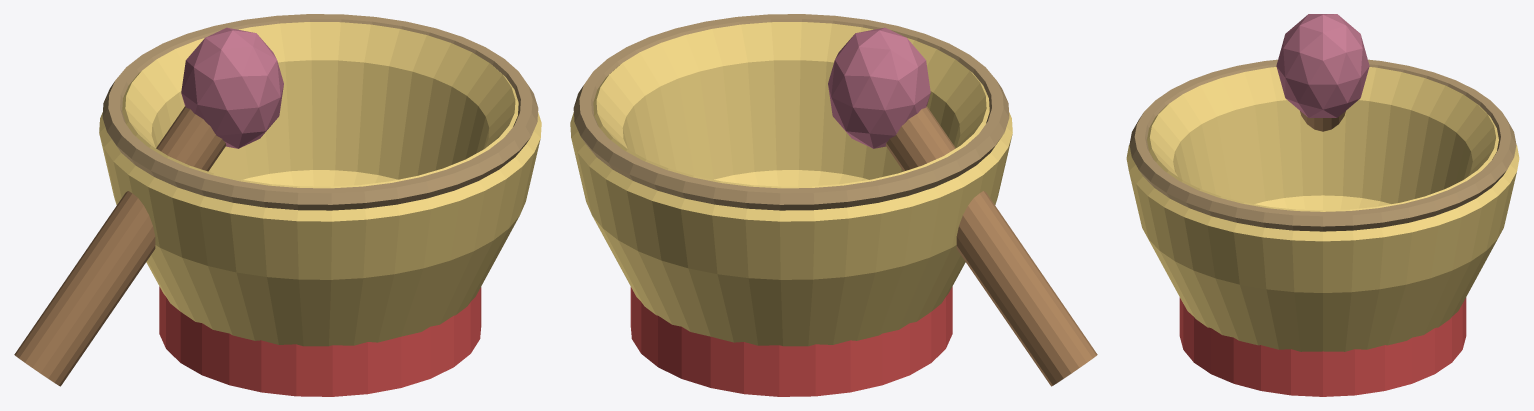
File: craft_orin.glb
The picture shows the model from 3 angles, left to right: view 1: azimuth 30°, elevation 25°; view 2: azimuth 150°, elevation 25°; view 3: azimuth 270°, elevation 25°; orthographic projection. The views are drawn at different scales.
Visible parts, largest first — view 1: Orin brass resonating lip, Vermilion woven ring cushion, Engraved bell upper rim, Singing bowl turned wooden mallet, Orin felt-covered beater; view 2: Orin brass resonating lip, Vermilion woven ring cushion, Engraved bell upper rim, Singing bowl turned wooden mallet, Orin felt-covered beater; view 3: Orin brass resonating lip, Vermilion woven ring cushion, Engraved bell upper rim, Orin felt-covered beater, Singing bowl turned wooden mallet.
Part boxes in pixels (x1=…): Orin brass resonating lip: x1=99, y1=22, x2=541, y2=346; Vermilion woven ring cushion: x1=159, y1=286, x2=481, y2=396; Engraved bell upper rim: x1=102, y1=14, x2=538, y2=210; Singing bowl turned wooden mallet: x1=14, y1=106, x2=226, y2=386; Orin felt-covered beater: x1=181, y1=27, x2=283, y2=148; Orin brass resonating lip: x1=570, y1=22, x2=1012, y2=346; Vermilion woven ring cushion: x1=630, y1=286, x2=952, y2=396; Engraved bell upper rim: x1=573, y1=14, x2=1009, y2=210; Singing bowl turned wooden mallet: x1=885, y1=106, x2=1097, y2=386; Orin felt-covered beater: x1=828, y1=27, x2=930, y2=148; Orin brass resonating lip: x1=1126, y1=67, x2=1519, y2=351; Vermilion woven ring cushion: x1=1179, y1=297, x2=1466, y2=396; Engraved bell upper rim: x1=1129, y1=59, x2=1516, y2=231; Orin felt-covered beater: x1=1276, y1=14, x2=1369, y2=117; Singing bowl turned wooden mallet: x1=1300, y1=111, x2=1345, y2=131.
Bounding box in the file's own units: 1.95 × 1.21 × 1.52.
